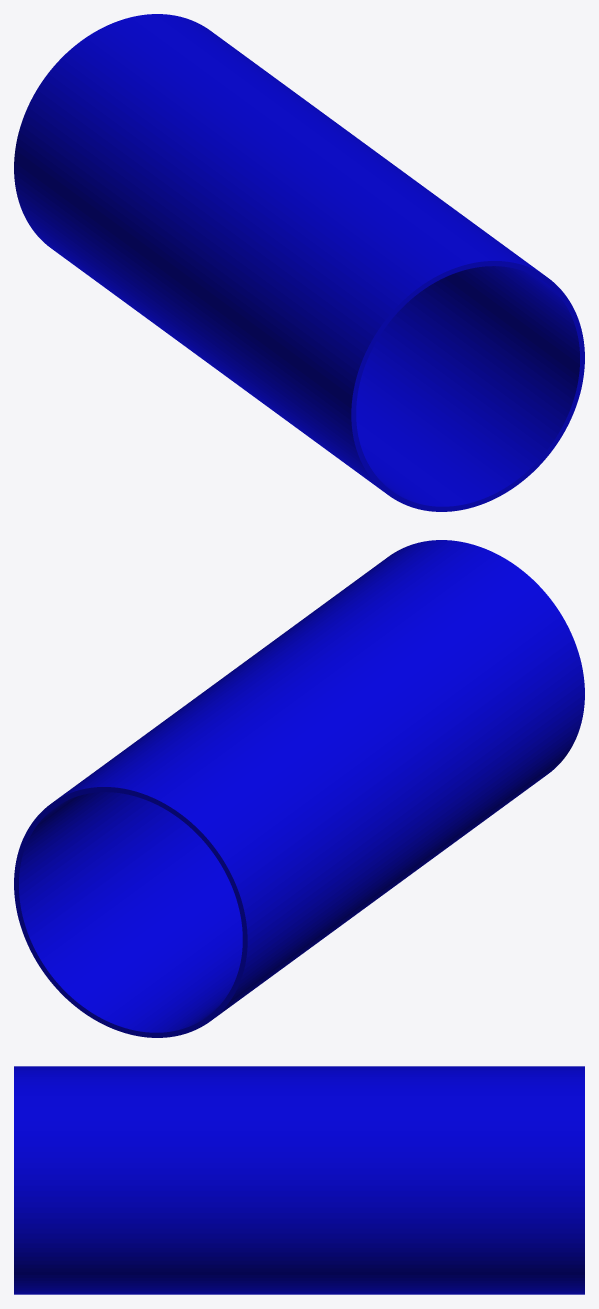
File: Beampipe.gltf
The picture shows the model from 3 angles, top to bottom: view 1: azimuth 30°, elevation 25°; view 2: azimuth 150°, elevation 25°; view 3: azimuth 270°, elevation 25°; orthographic projection. The views are drawn at different scales.
Parts seen in each view (by area): view 1: Beampipe; view 2: Beampipe; view 3: Beampipe.
Boxes of the visible parts, x1=… form: Beampipe: x1=14, y1=14, x2=584, y2=511; Beampipe: x1=14, y1=540, x2=584, y2=1037; Beampipe: x1=14, y1=1066, x2=584, y2=1294.
Bounding box in the file's own units: 48 × 48 × 120.
